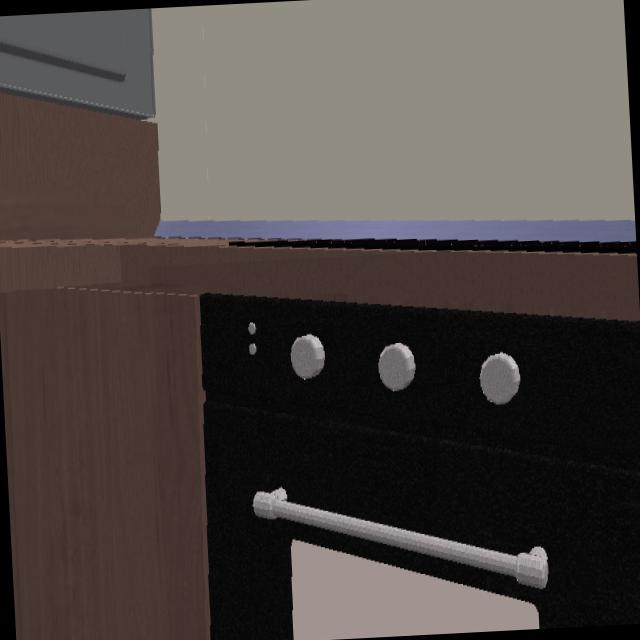oven: (166, 254, 640, 640)
